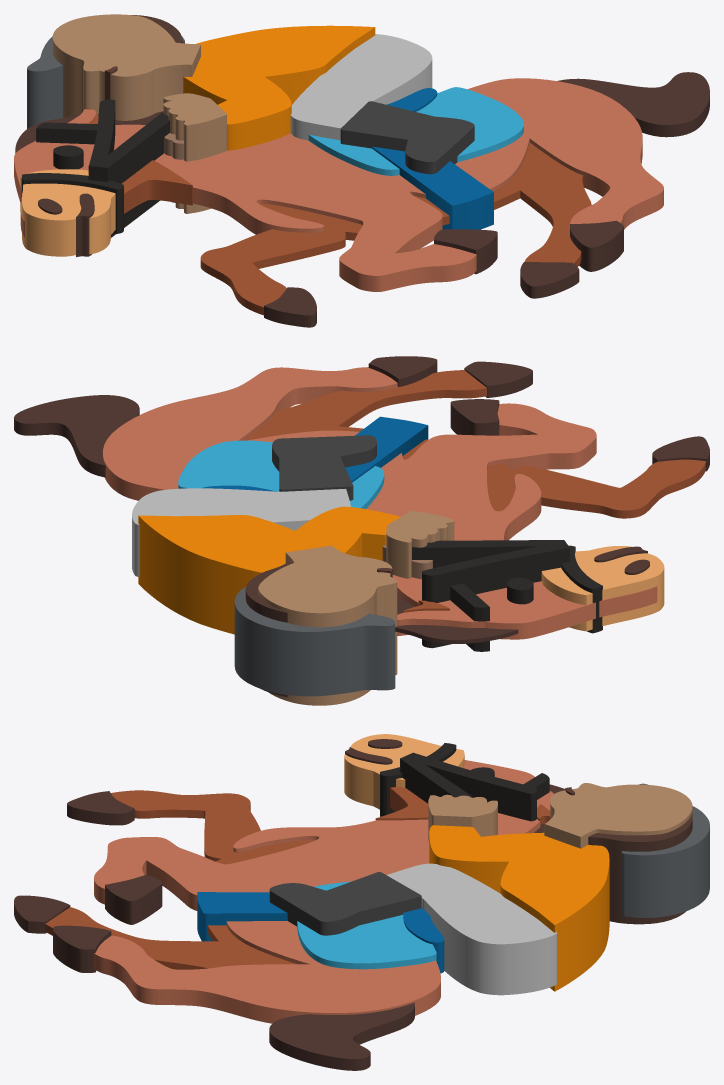
The model's file is emoji_u1f3c7_1f3fd.glb.
3 renders of one model, top to bottom at view 1: azimuth 30°, elevation 25°; view 2: azimuth 150°, elevation 25°; view 3: azimuth 270°, elevation 25°, orthographic. The views are drawn at different scales.
Visible parts, largest first — view 1: emoji_u1f3c7_1f3fd; view 2: emoji_u1f3c7_1f3fd; view 3: emoji_u1f3c7_1f3fd.
Part boxes in pixels (box(x1,y1,x2,y2)): emoji_u1f3c7_1f3fd: box(14, 14, 709, 327); emoji_u1f3c7_1f3fd: box(14, 356, 709, 705); emoji_u1f3c7_1f3fd: box(14, 734, 709, 1070).
Size of the model in its own units: 0.0343 by 0.0048 by 0.0322.
